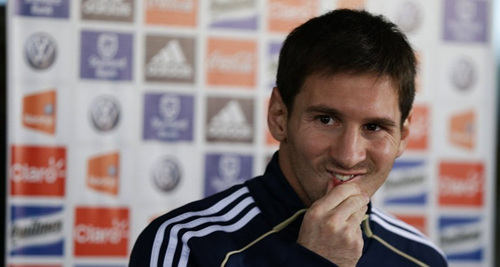face_mask: (287, 77, 407, 197)
